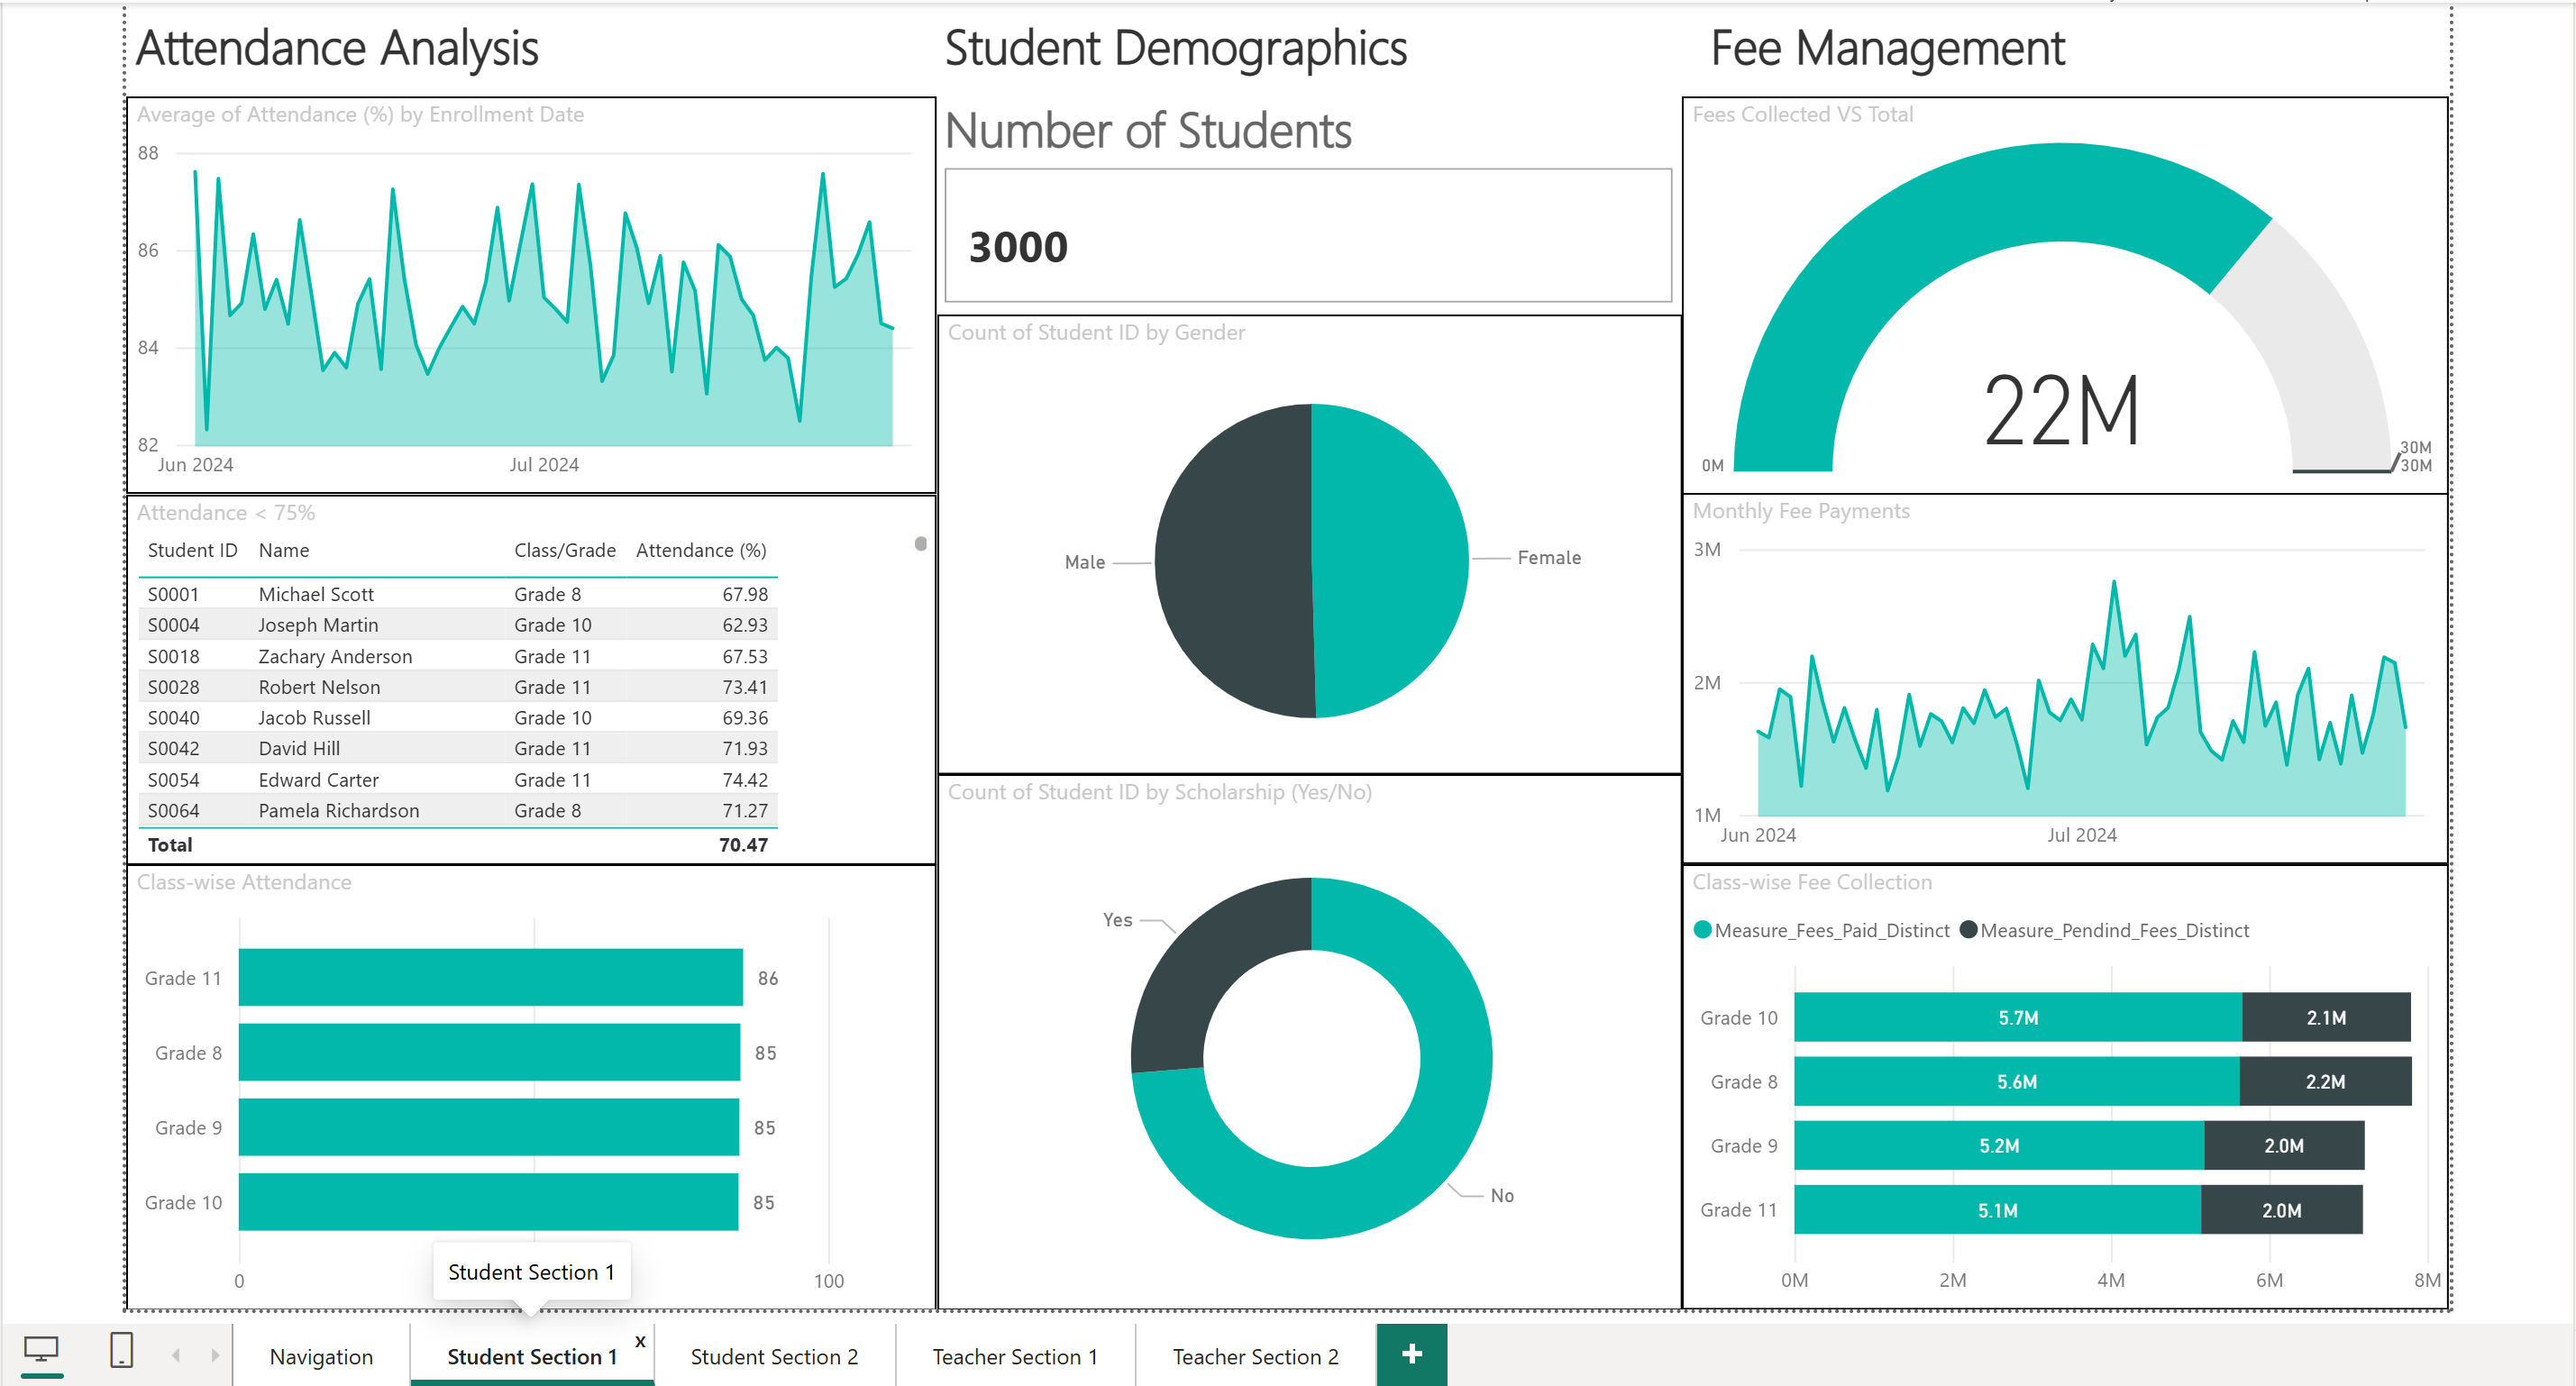

Layout of this report page (visuals, bound fields, positions):
{"tool":"powerbi","page":{"name":"Student Section 1","canvas":[1280,720],"ordinal":1},"visuals":[{"type":"lineChart","fields":{"Y":["Avg(Students Section.Attendance (%))"],"Category":["Students Section.Enrollment Date"]},"box":[0,51.4,446.3,218.9],"z":0,"group":"g1"},{"type":"clusteredBarChart","title":"Class-wise Attendance","fields":{"Category":["Students Section.Class/Grade"],"Y":["Avg(Students Section.Attendance (%))"]},"box":[0,474.5,446.3,245.8],"z":1000,"group":"g1"},{"type":"tableEx","title":"Attendance < 75%","fields":{"Values":["Students Section.Student ID","Students Section.Name","Students Section.Class/Grade","Avg(Students Section.Attendance (%))"]},"box":[0,271.5,446.3,204.2],"z":2000,"group":"g1"},{"type":"textbox","box":[0,0,446.3,51.4],"z":3000,"group":"g1"},{"type":"textbox","box":[446.3,0,421.9,53.8],"z":4000,"group":"g1"},{"type":"gauge","title":"Fees Collected VS Total","fields":{"TargetValue":["Students Section.Measure"],"Y":["Students Section.Measure_Fees_Paid_Distinct"],"MaxValue":["Students Section.Measure"]},"box":[857.5,52,422.7,219.3],"z":5000,"group":"g1"},{"type":"barChart","title":"Class-wise Fee Collection","fields":{"Category":["Students Section.Class/Grade"],"Y":["Students Section.Measure_Fees_Paid_Distinct","Students Section.Measure_Pendind_Fees_Distinct"]},"box":[857.5,474.7,422.7,245.3],"z":6000,"group":"g1"},{"type":"lineChart","title":"Monthly Fee Payments","fields":{"Category":["Students Section.Enrollment Date"],"Y":["Sum(Students Section.Fees Paid)"]},"box":[857.5,270.3,422.7,204.4],"z":7000,"group":"g1"},{"type":"textbox","box":[868.2,0,412.1,51.4],"z":8000,"group":"g1"},{"type":"cardVisual","title":"Number of Students","fields":{"Data":["Count(Students Section.Student ID)"]},"box":[445.9,51.1,411.6,119.8],"z":9000,"group":"g1"},{"type":"pieChart","fields":{"Y":["Count(Students Section.Student ID)"],"Series":["Students Section.Gender"]},"box":[446.9,171.9,410.6,253.6],"z":10000,"group":"g1"},{"type":"donutChart","fields":{"Y":["Count(Students Section.Student ID)"],"Series":["Students Section.Scholarship (Yes/No)"]},"box":[446.9,424.6,410.6,295.4],"z":11000,"group":"g1"},{"type":"group","id":"g1","title":"Student Section 1","box":[0,0,1280,720.6],"z":11001}]}

Visuals, with their boxes on the page's 1280x720 design canvas (x1, y1, x2, y2). These are canvas units, not pixel positions in the 2576x1386 screenshot, which may show the page scaled, cropped or inside an application window:
lineChart - Avg(Students Section.Attendance (%)) x Students Section.Enrollment Date: [0, 51, 446, 270]
"Class-wise Attendance" clusteredBarChart: [0, 474, 446, 720]
"Attendance < 75%" tableEx: [0, 272, 446, 476]
textbox: [0, 0, 446, 51]
textbox: [446, 0, 868, 54]
"Fees Collected VS Total" gauge: [858, 52, 1280, 271]
"Class-wise Fee Collection" barChart: [858, 475, 1280, 720]
"Monthly Fee Payments" lineChart: [858, 270, 1280, 475]
textbox: [868, 0, 1280, 51]
"Number of Students" cardVisual: [446, 51, 858, 171]
pieChart - Count(Students Section.Student ID) x Students Section.Gender: [447, 172, 858, 426]
donutChart - Count(Students Section.Student ID) x Students Section.Scholarship (Yes/No): [447, 425, 858, 720]
"Student Section 1" group: [0, 0, 1280, 721]
